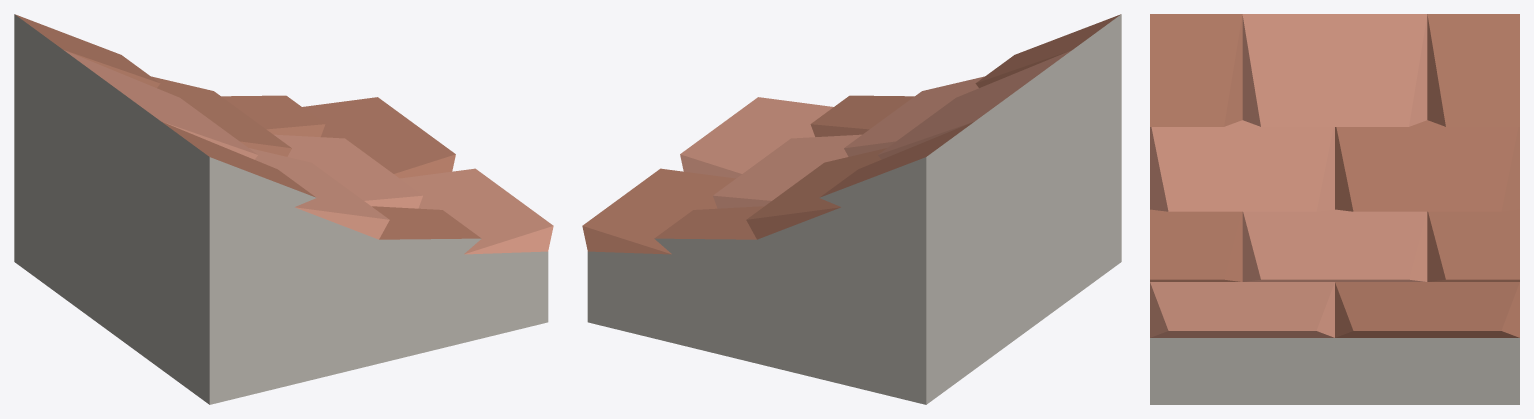
File: Roof_Concave_Side.glb
The picture shows the model from 3 angles, left to right: view 1: azimuth 30°, elevation 25°; view 2: azimuth 150°, elevation 25°; view 3: azimuth 270°, elevation 25°; orthographic projection. The views are drawn at different scales.
Parts seen in each view (by area): view 1: object1; view 2: object1; view 3: object1.
Boxes of the visible parts, x1=… form: object1: x1=14, y1=14, x2=553, y2=404; object1: x1=582, y1=14, x2=1121, y2=404; object1: x1=1150, y1=14, x2=1519, y2=404.
Size of the model in its own units: 1.05 by 0.7 by 1.
